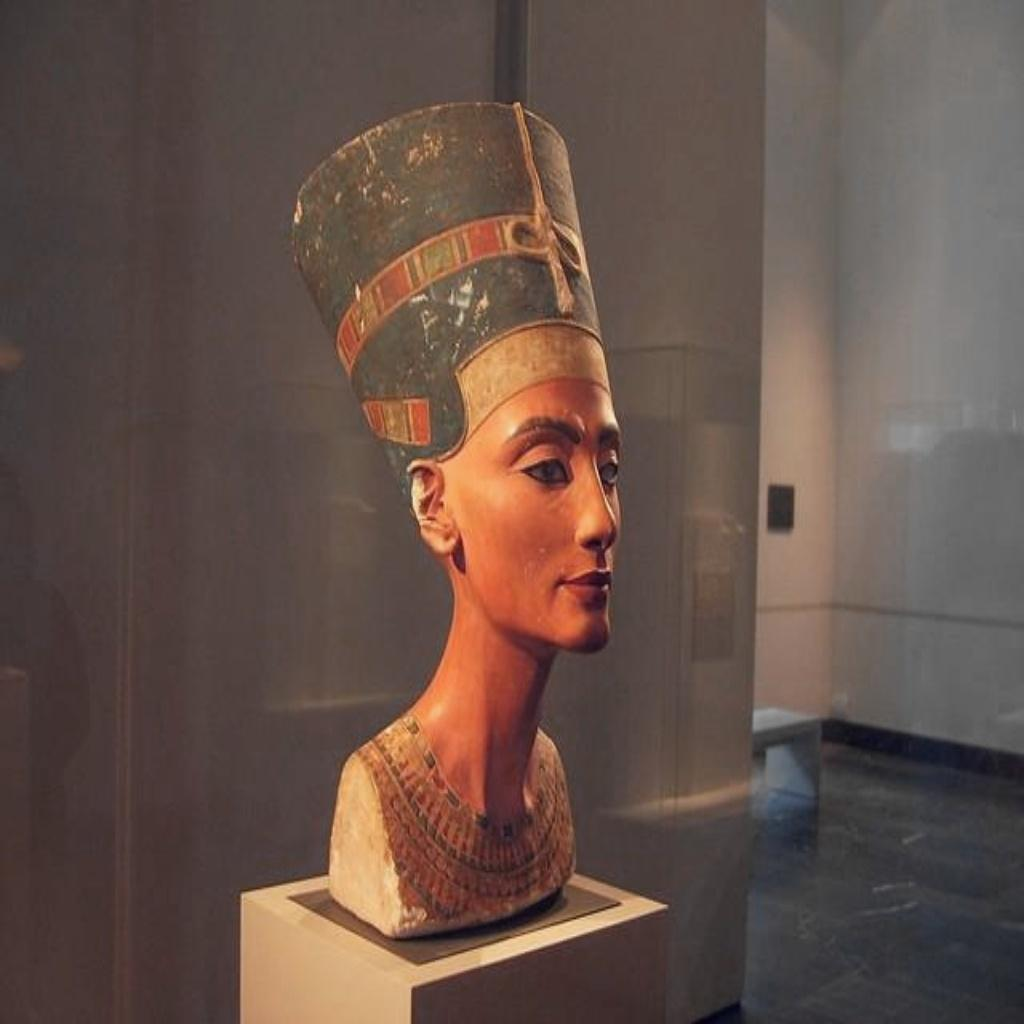Nefertiti: (286, 94, 628, 939)
